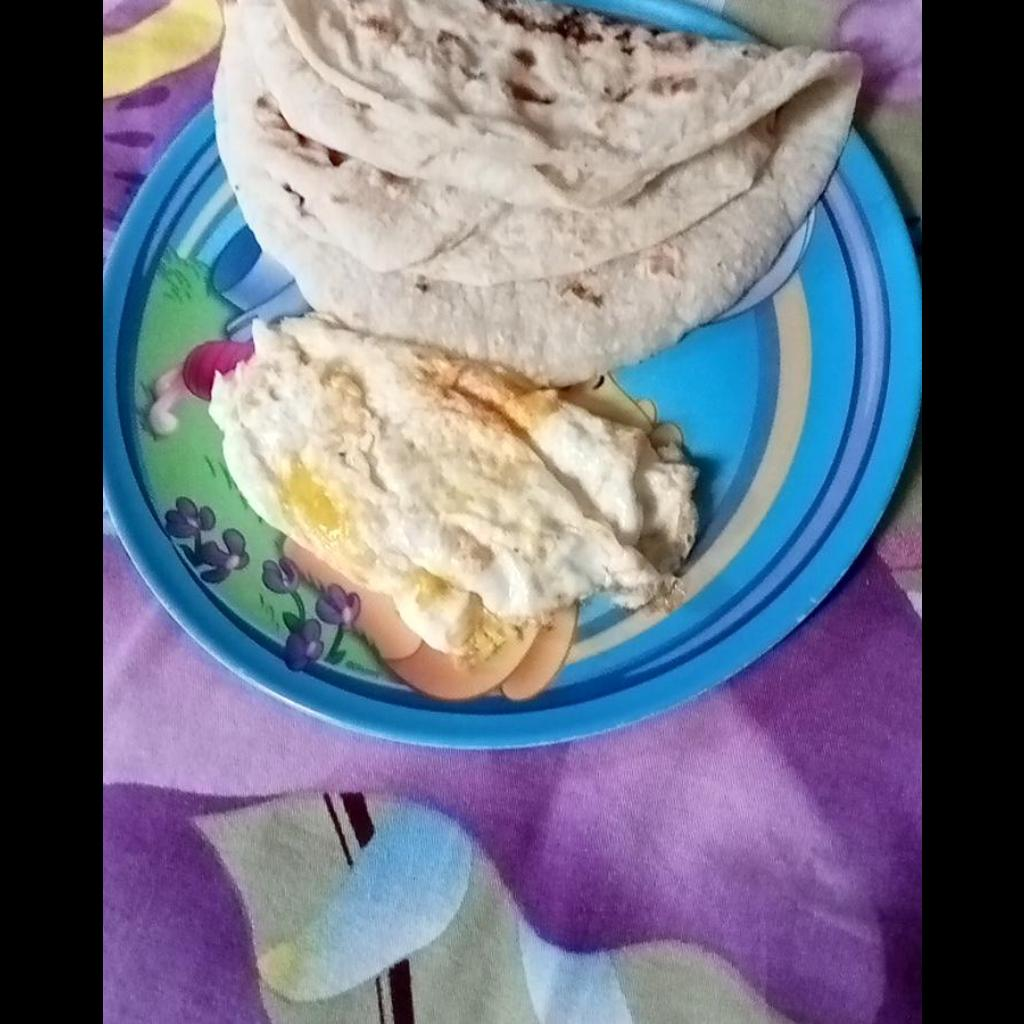egg-poached: (204, 315, 704, 673)
ruti: (208, 0, 862, 382)
